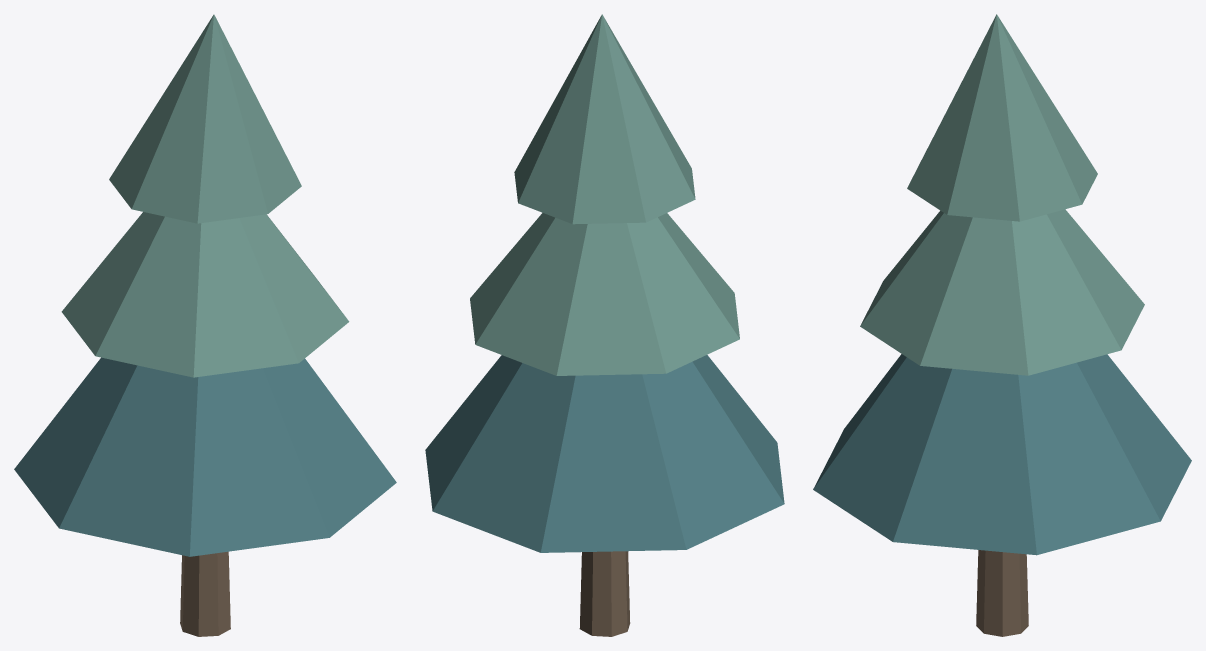
3 renders of one model, left to right at view 1: azimuth 30°, elevation 25°; view 2: azimuth 150°, elevation 25°; view 3: azimuth 270°, elevation 25°, orthographic.
Parts seen in each view (by area): view 1: campus_tree_pine_bare; view 2: campus_tree_pine_bare; view 3: campus_tree_pine_bare.
Boxes of the visible parts, box(x1,y1,x2,y2) form: campus_tree_pine_bare: box(14, 14, 396, 636); campus_tree_pine_bare: box(425, 14, 784, 636); campus_tree_pine_bare: box(813, 14, 1191, 636).
Size of the model in its own units: 2.3 by 4.12 by 2.3.
Materials: 1 (1 with a texture image).
